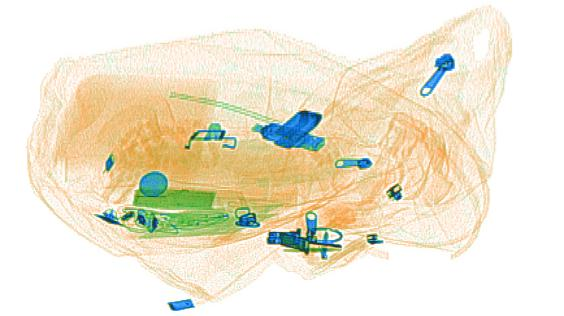USBFlashDisk: (260, 122, 326, 152)
